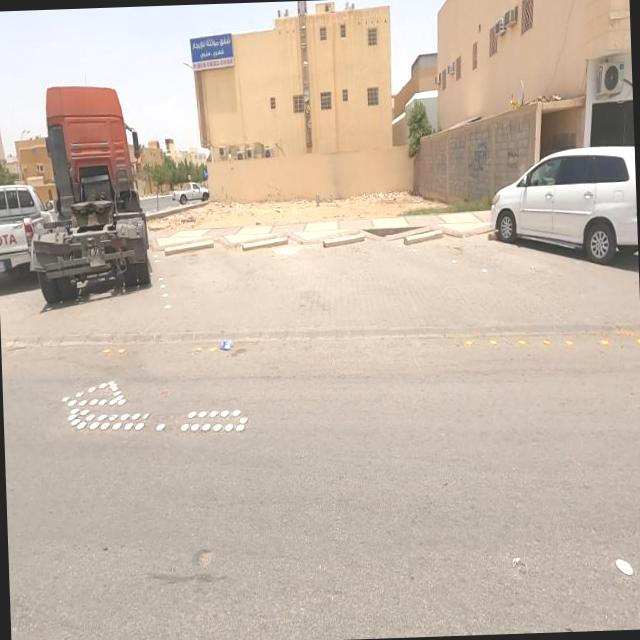debris: (196, 296, 257, 391)
